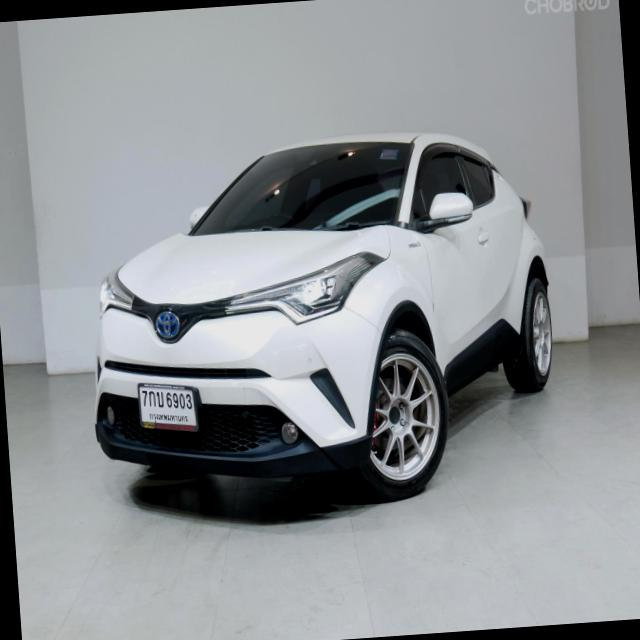license_plate: (131, 376, 206, 442)
